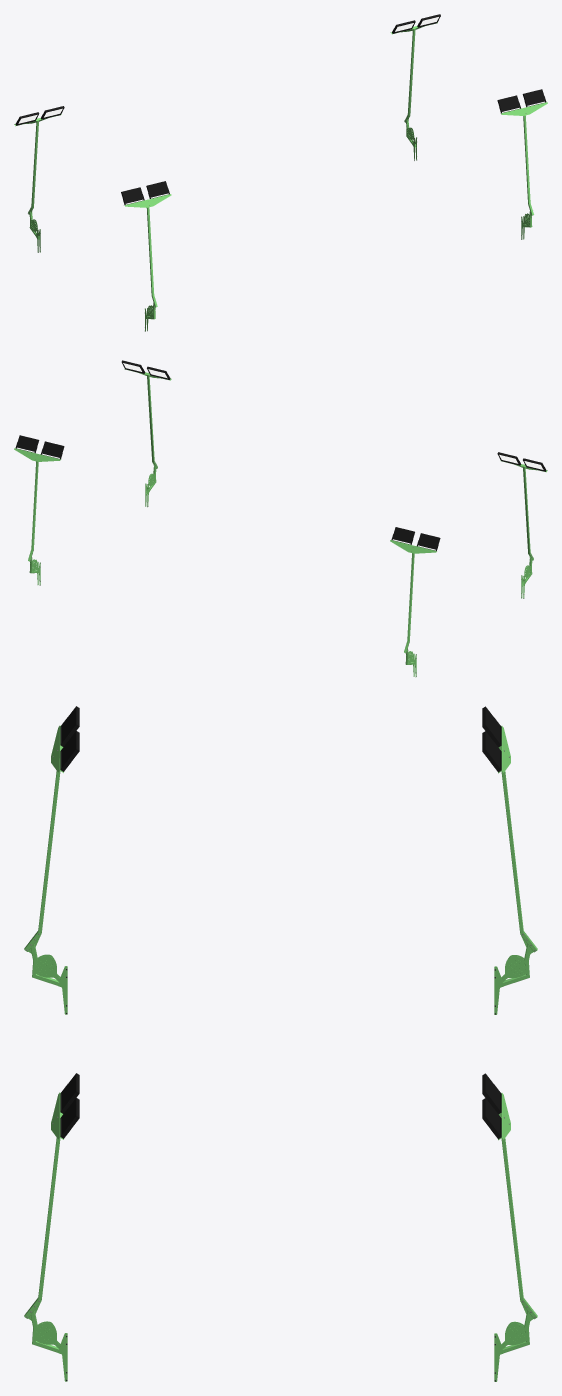
Rendered from solo_6.glb.
3 renders of one model, top to bottom at view 1: azimuth 30°, elevation 25°; view 2: azimuth 150°, elevation 25°; view 3: azimuth 270°, elevation 25°, orthographic. The views are drawn at different scales.
Visible parts, largest first — view 1: 6 вариант; view 2: 6 вариант; view 3: 6 вариант.
Part boxes in pixels (<box>): 6 вариант: <box>14,14,547,331</box>; 6 вариант: <box>14,360,547,677</box>; 6 вариант: <box>24,706,537,1381</box>.
Bounding box in the file's own units: 13.68 × 4.43 × 7.2.
